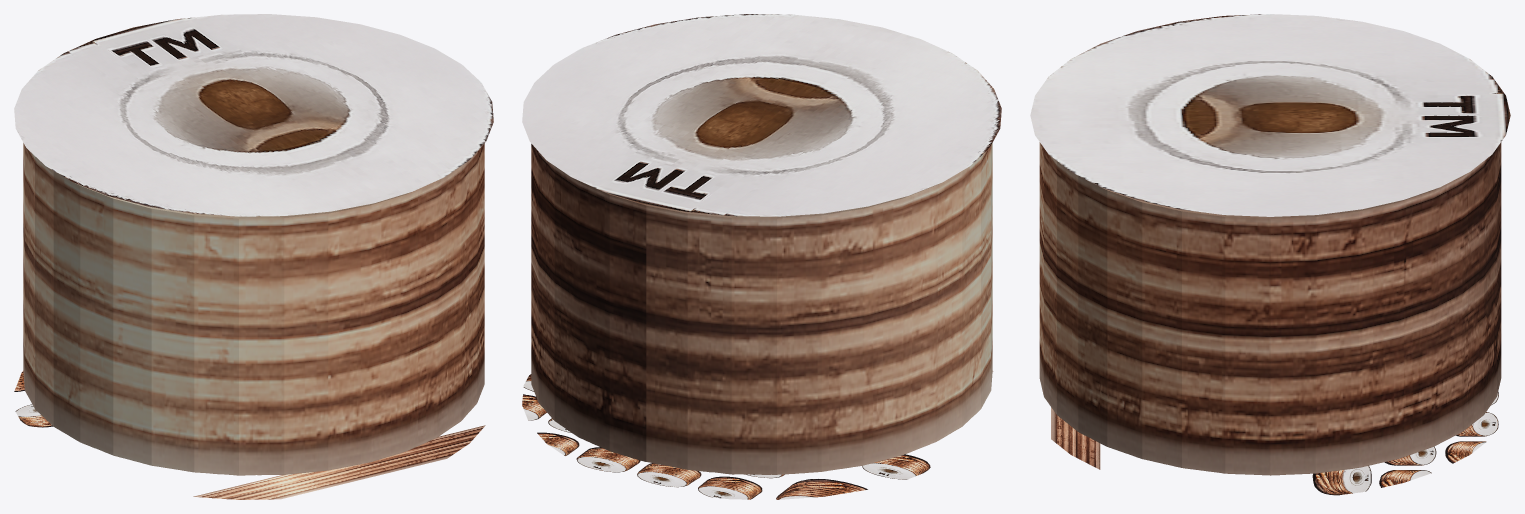
File: TM_WireBundle.fbx
The picture shows the model from 3 angles, left to right: view 1: azimuth 30°, elevation 25°; view 2: azimuth 150°, elevation 25°; view 3: azimuth 270°, elevation 25°; orthographic projection.
Visible parts, largest first — view 1: Cylinder; view 2: Cylinder; view 3: Cylinder.
Boxes of the visible parts, box(x1,y1,x2,y2) form: Cylinder: box(14, 14, 493, 499); Cylinder: box(522, 14, 1001, 499); Cylinder: box(1030, 14, 1510, 495).
Size of the model in its own units: 0.0832 by 0.0541 by 0.0832.
